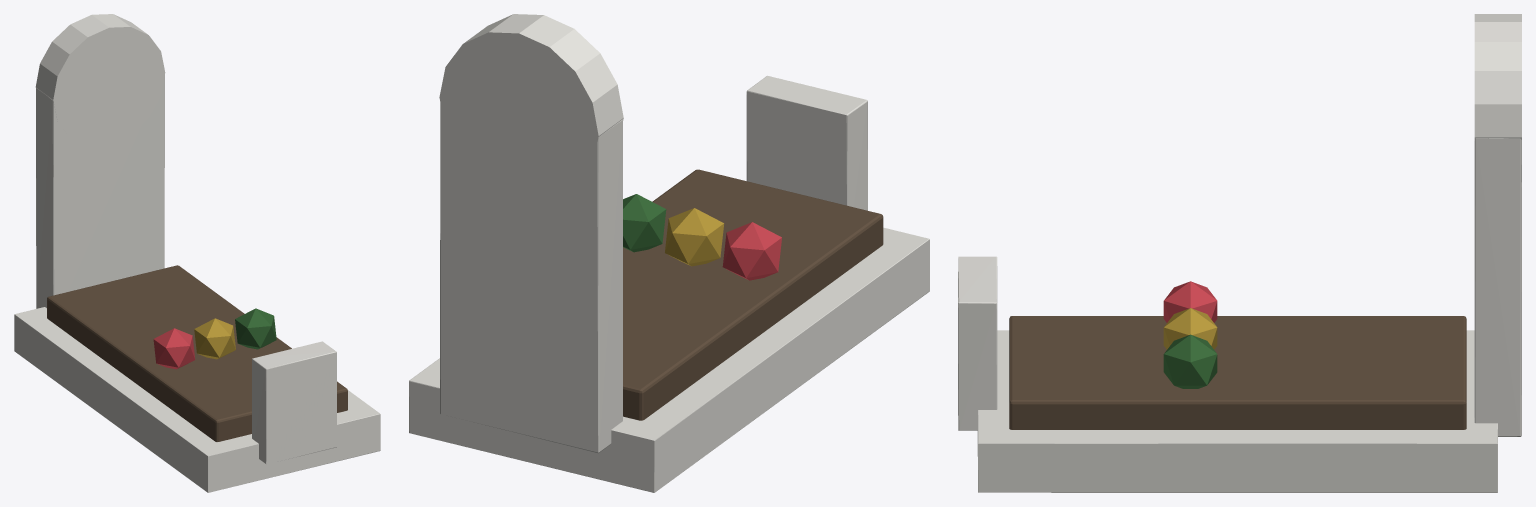
The model's file is mezar.glb.
3 renders of one model, left to right at view 1: azimuth 30°, elevation 25°; view 2: azimuth 150°, elevation 25°; view 3: azimuth 270°, elevation 25°, orthographic. The views are drawn at different scales.
Parts seen in each view (by area): view 1: Cylinder; view 2: Cylinder; view 3: Cylinder.
Part boxes in pixels (x1=…): Cylinder: x1=14, y1=14, x2=380, y2=492; Cylinder: x1=409, y1=14, x2=929, y2=492; Cylinder: x1=958, y1=14, x2=1521, y2=492.
Bounding box in the file's own units: 0.4752 × 0.8112 × 1.
